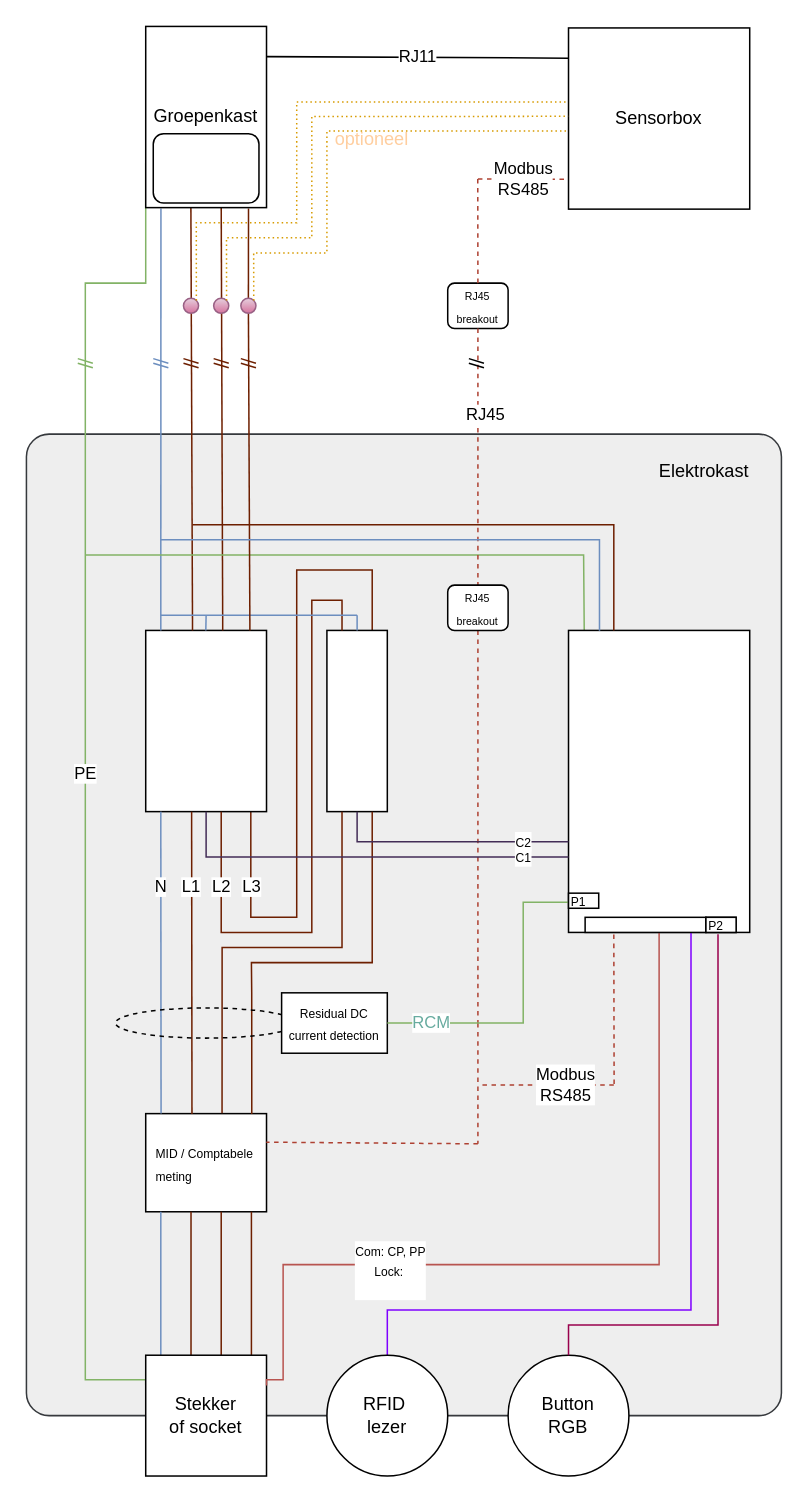
This 808x1502 diagram has some shape labels left out. Each missing label, with the box of its shape:
2P contactor: (325, 629, 387, 812)
3 fase 16A groep type B: (152, 132, 259, 203)
4P contactor: (144, 629, 267, 812)
SmartEVSE v3.1: (567, 629, 750, 932)
